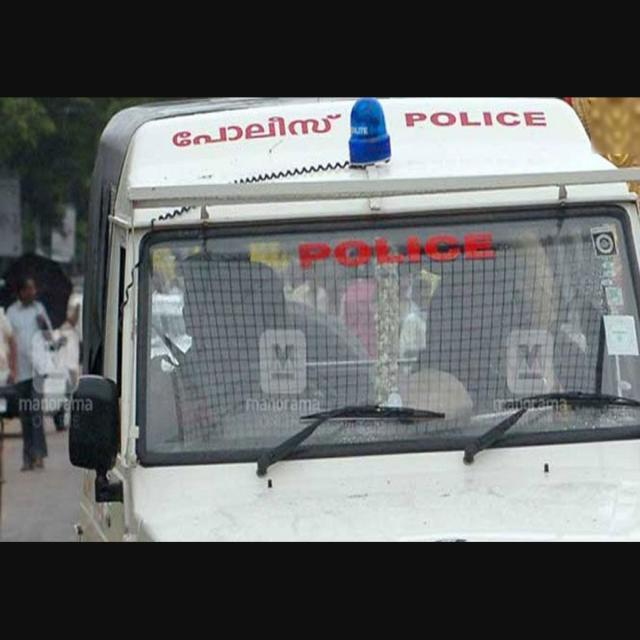Ambulance: (63, 93, 638, 545), (3, 270, 57, 475)
